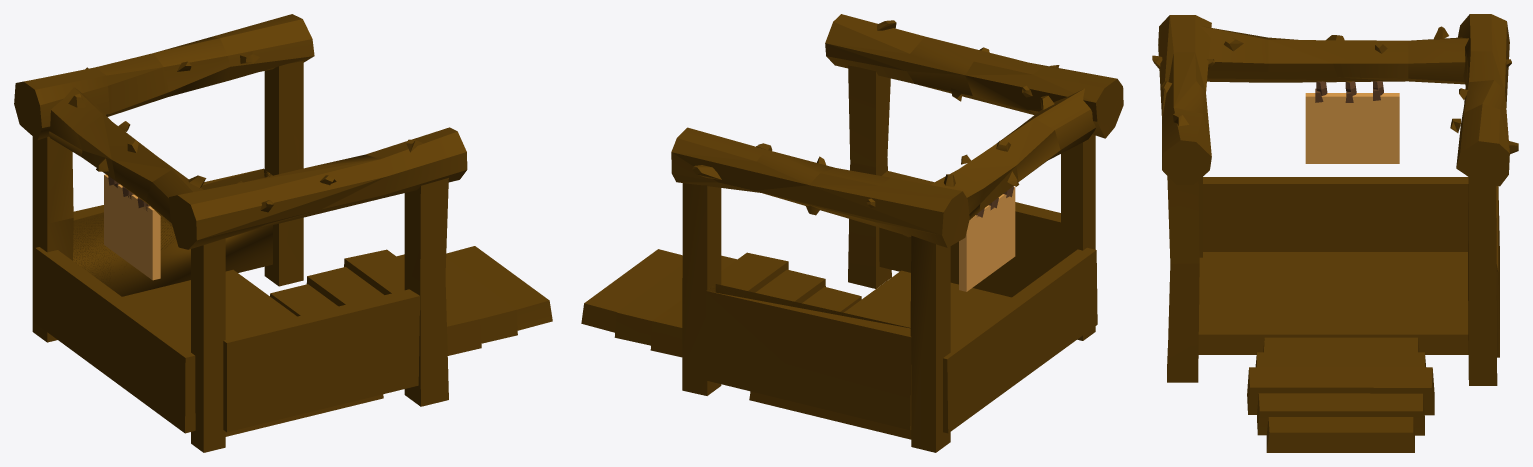
File: Wooden Lookout.fbx
3 views of the same model, side by side, from view 1: azimuth 30°, elevation 25°; view 2: azimuth 150°, elevation 25°; view 3: azimuth 270°, elevation 25° (orthographic). The views are drawn at different scales.
Visible parts, largest first — view 1: Lookout Wooden; view 2: Lookout Wooden; view 3: Lookout Wooden.
Boxes of the visible parts, box(x1,y1,x2,y2) form: Lookout Wooden: box(14, 14, 552, 452); Lookout Wooden: box(581, 14, 1123, 452); Lookout Wooden: box(1152, 14, 1518, 452).
Size of the model in its own units: 373 by 227 by 298.
